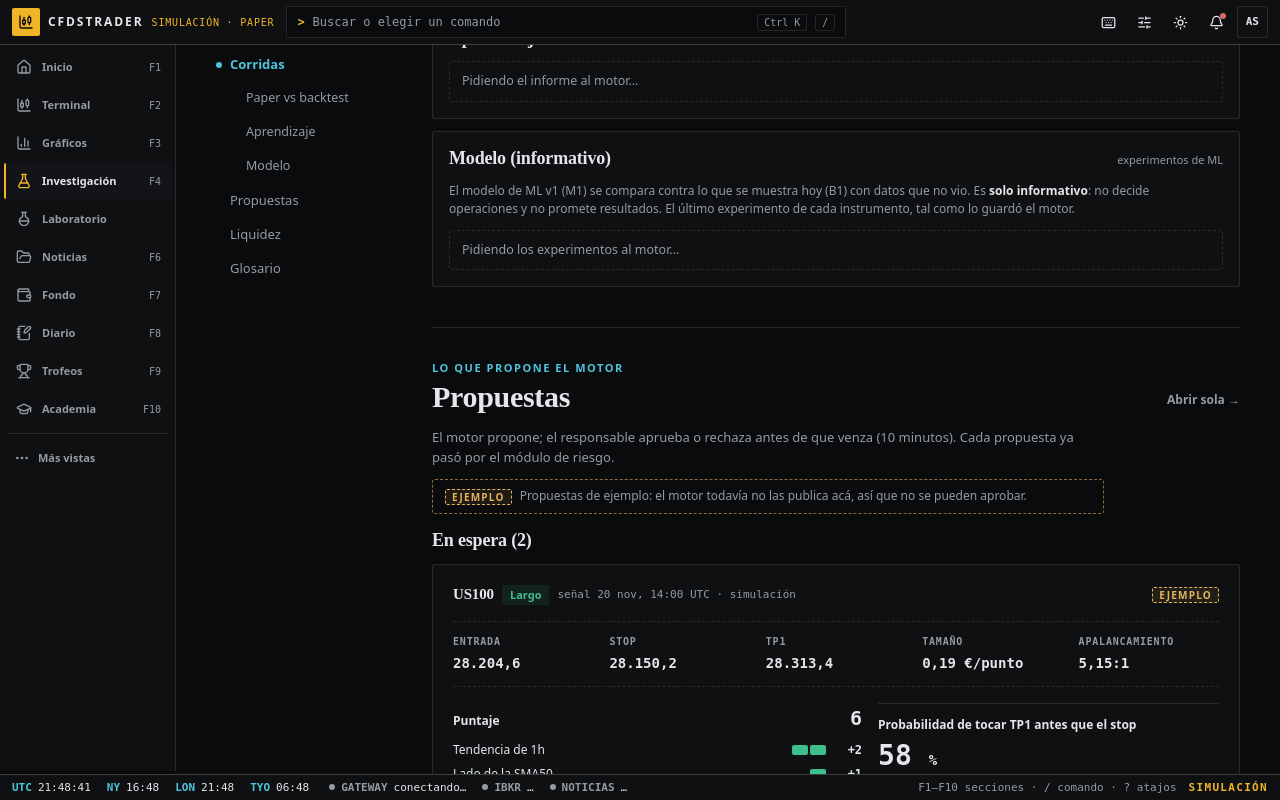
Scenario: Investigación (#581, etapa 6) › "Abrir sola" abre la vista de siempre
(page scrolled)
Click the link "Abrir sola →": [1204, 400] box x1=1167 y1=388 x2=1240 y2=412
(page scrolled)
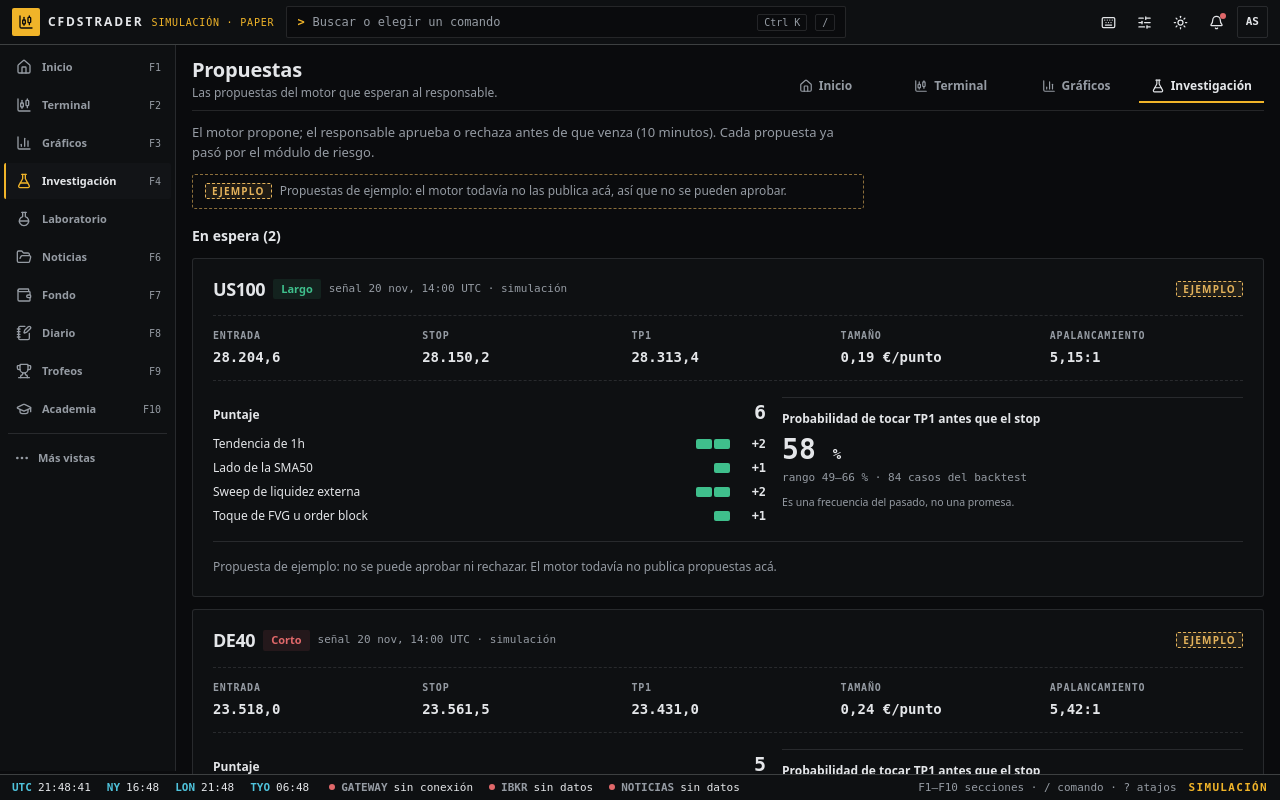
Now the heading "Propuestas" is shown, box x1=192 y1=56 x2=302 y2=83
